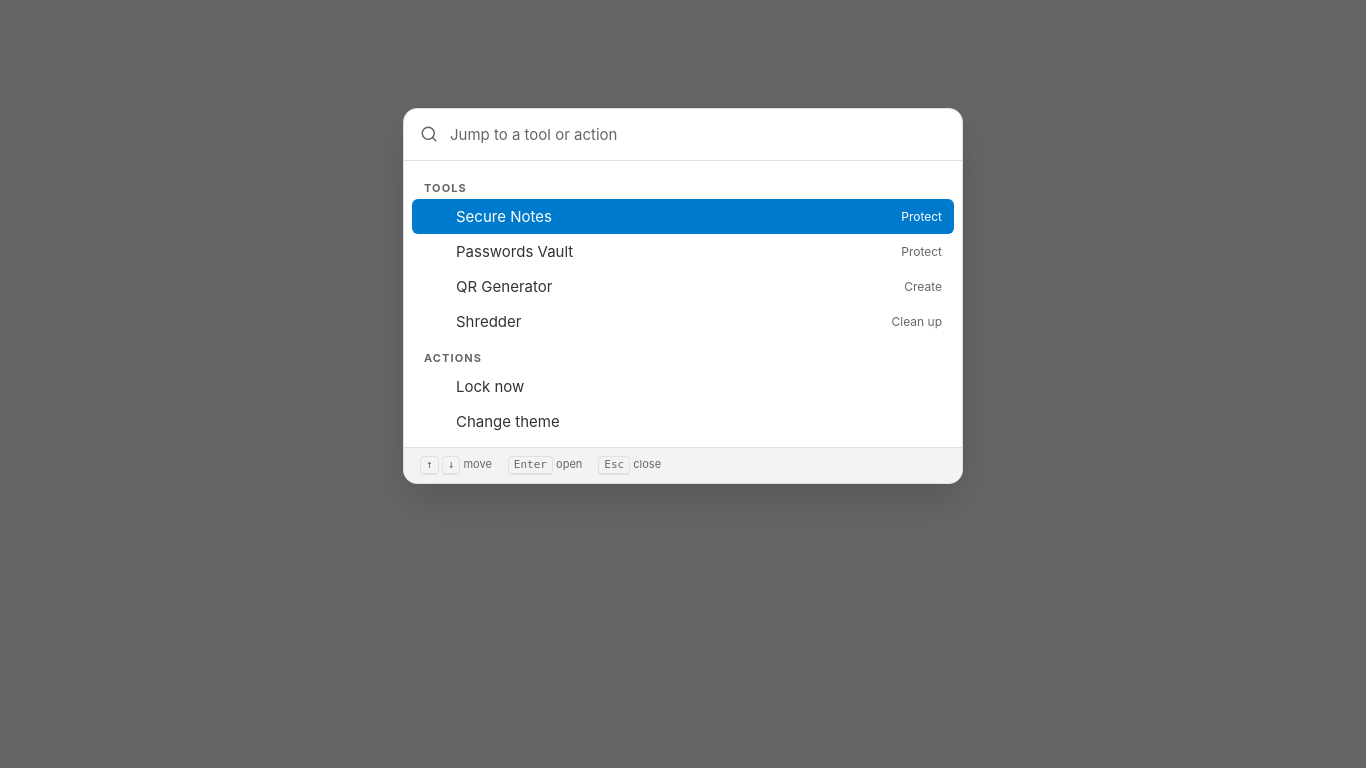
Test: CommandPalette › filters as you type and names the section instead of headings
The width and height of the screenshot is (1366, 768).
Type "wifi" into the dropdown labelled "Jump to a tool or action" at (698, 134), box [450,120,946,148]
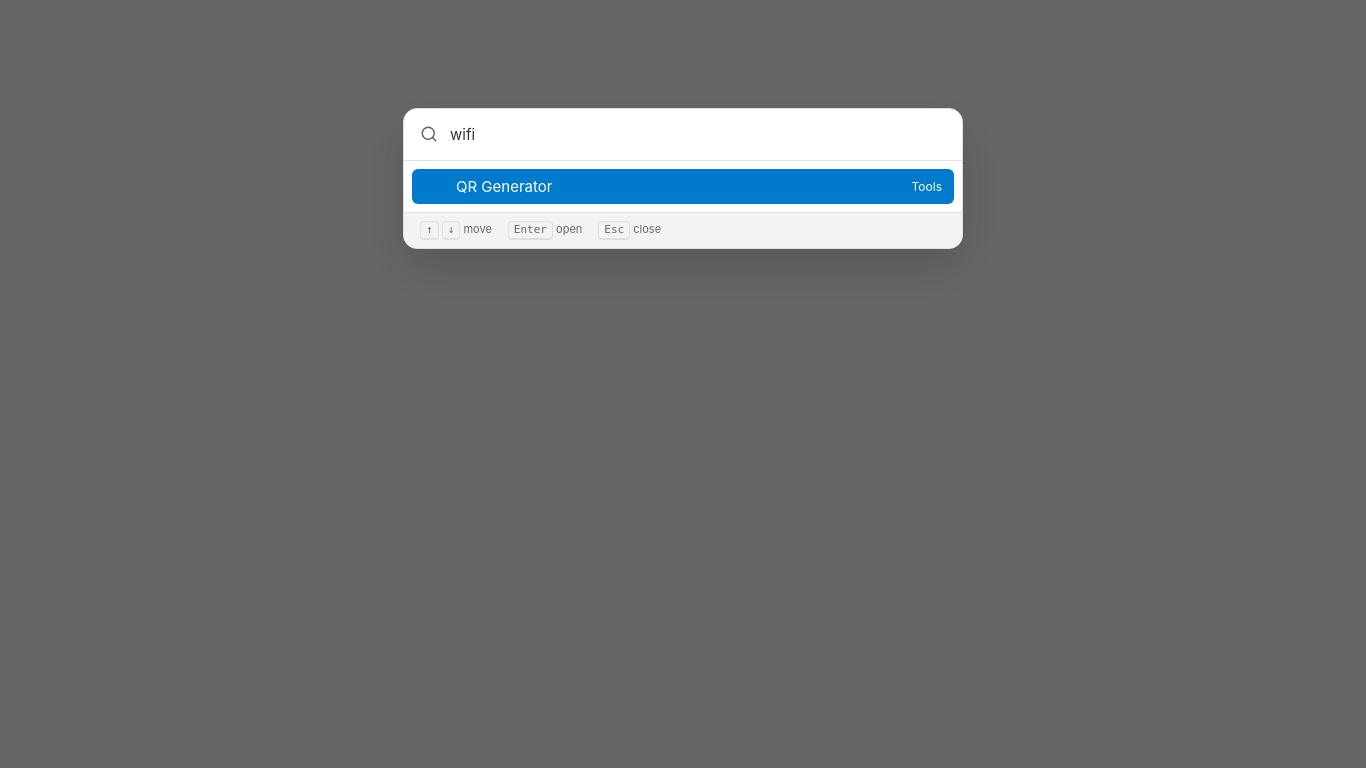
Result: the text "Actions" is gone
